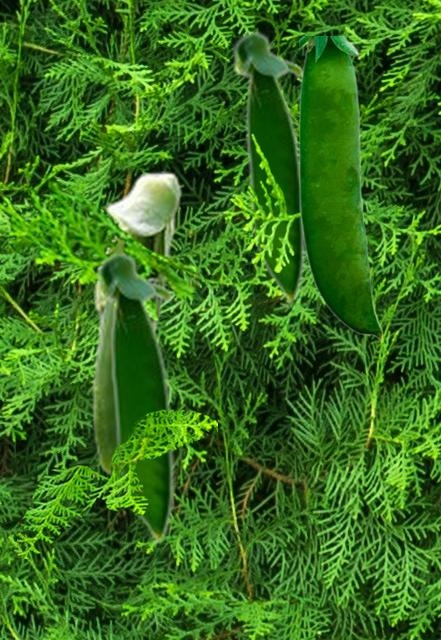pea: (91, 171, 182, 474), (299, 36, 382, 341), (95, 250, 174, 548), (231, 29, 305, 308)
